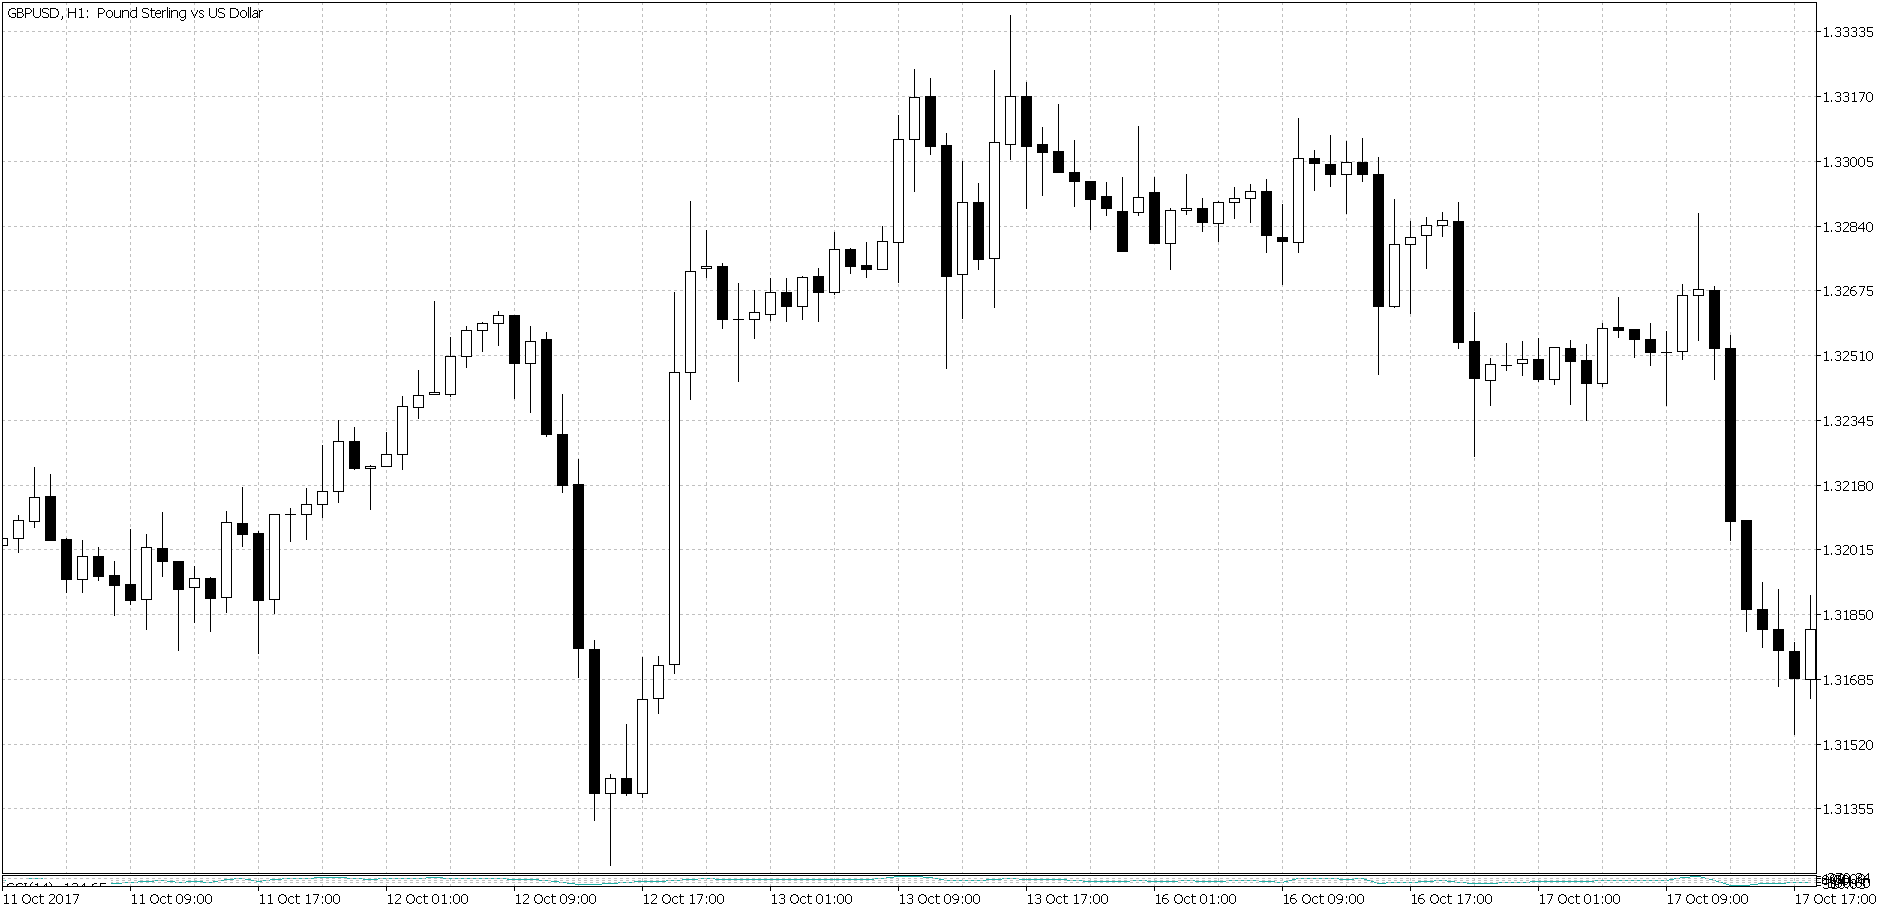bearishEngulfing: (27, 463, 58, 556)
hammer: (604, 768, 617, 868)
morningDojiStar: (714, 258, 762, 386)
